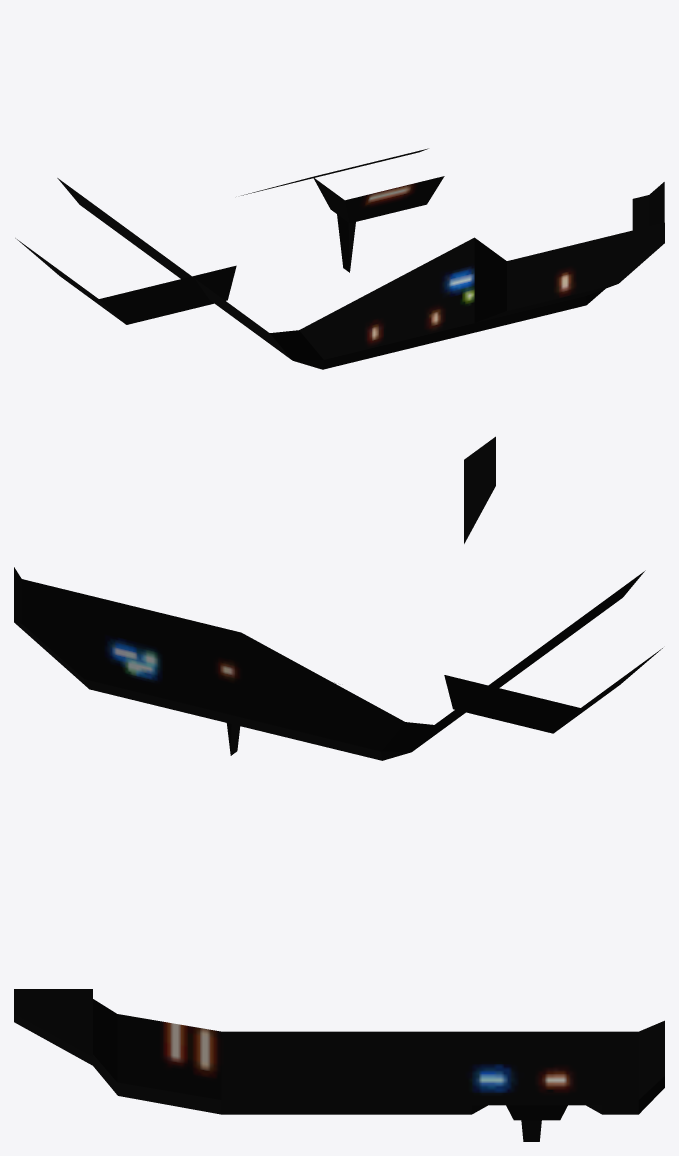
Rendered from hangar_hgn_battlecruiser_02_basic_t3_left.glb.
The picture shows the model from 3 angles, top to bottom: view 1: azimuth 30°, elevation 25°; view 2: azimuth 150°, elevation 25°; view 3: azimuth 270°, elevation 25°; orthographic projection. The views are drawn at different scales.
Visible parts, largest first — view 1: hgn_flagship_battlecruiser_02_hangar_01_l; view 2: hgn_flagship_battlecruiser_02_hangar_01_l; view 3: hgn_flagship_battlecruiser_02_hangar_01_l.
Part boxes in pixels (x1,y1,x2,y2): hgn_flagship_battlecruiser_02_hangar_01_l: [15, 148, 664, 369]; hgn_flagship_battlecruiser_02_hangar_01_l: [14, 436, 662, 760]; hgn_flagship_battlecruiser_02_hangar_01_l: [14, 989, 664, 1141].
Size of the model in its own units: 1.11 by 0.3628 by 0.9898.
1 material, 1 textured.
